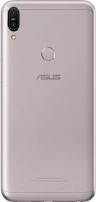asus: (1, 1, 96, 202)
